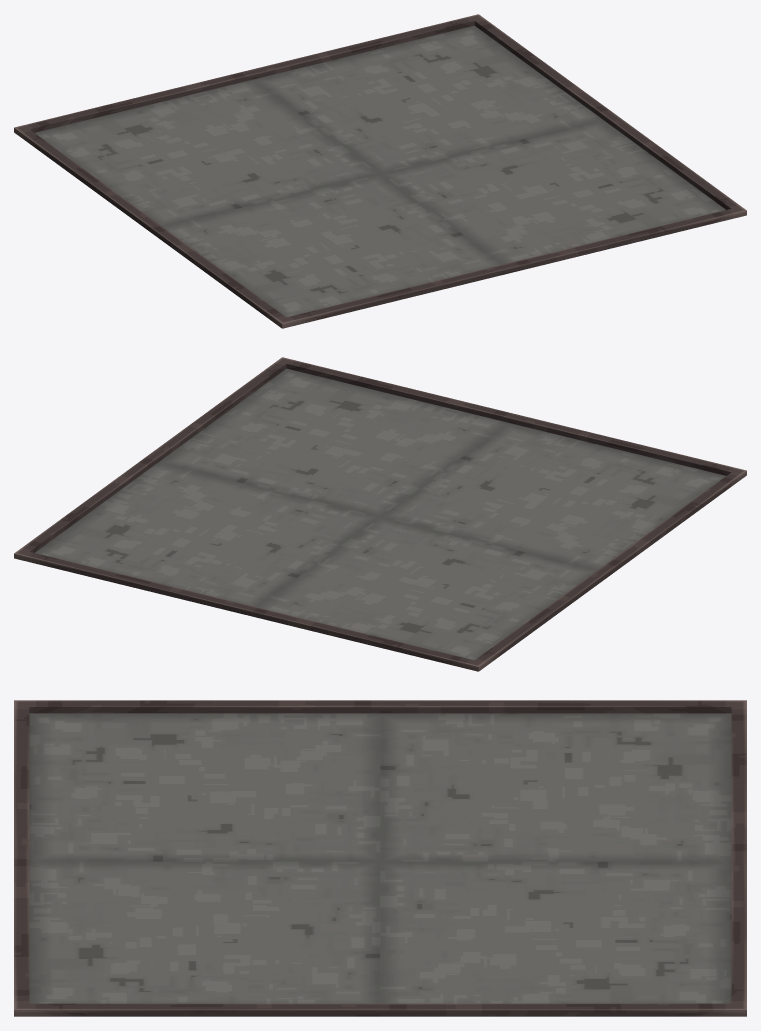
File: SmallRoof.fbx
3 views of the same model, one above another, from view 1: azimuth 30°, elevation 25°; view 2: azimuth 150°, elevation 25°; view 3: azimuth 270°, elevation 25° (orthographic). The views are drawn at different scales.
Parts seen in each view (by area): view 1: SmallRoof; view 2: SmallRoof; view 3: SmallRoof.
Part boxes in pixels (<box>): SmallRoof: <box>14,14,746,328</box>; SmallRoof: <box>14,357,746,671</box>; SmallRoof: <box>14,700,746,1016</box>.
Bounding box in the file's own units: 200 × 2 × 200.
